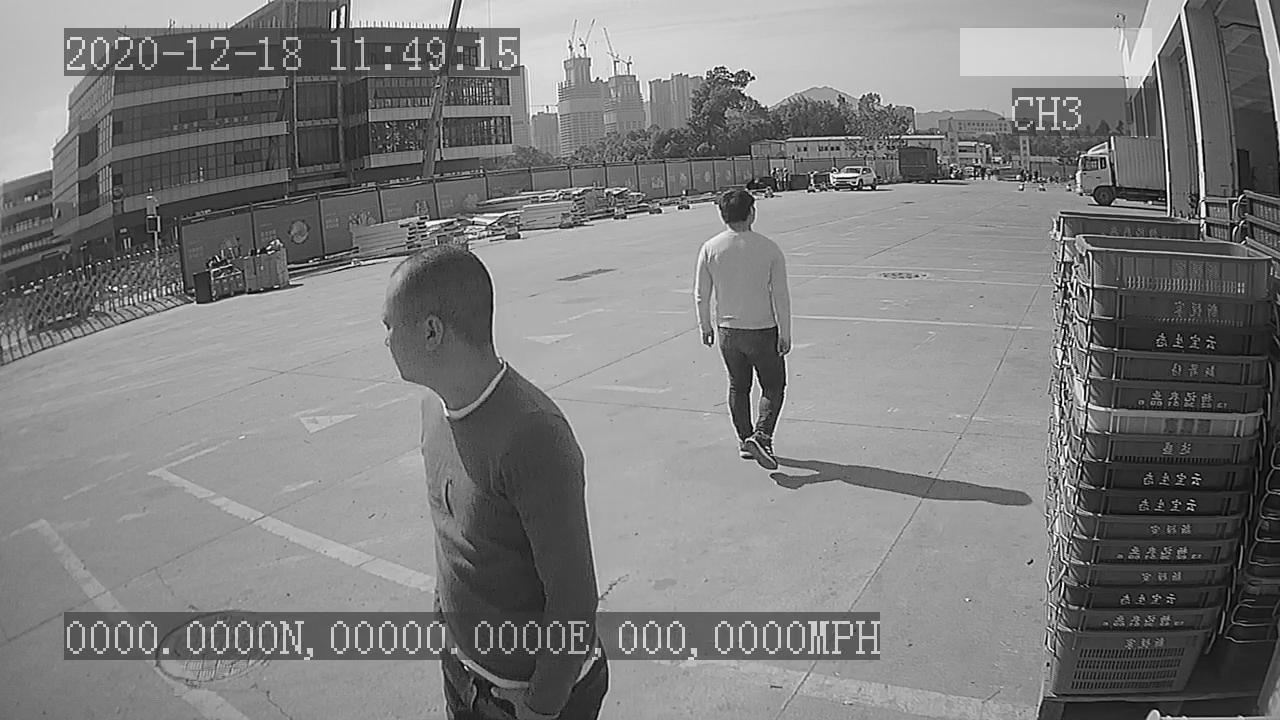person: (693, 186, 797, 474)
